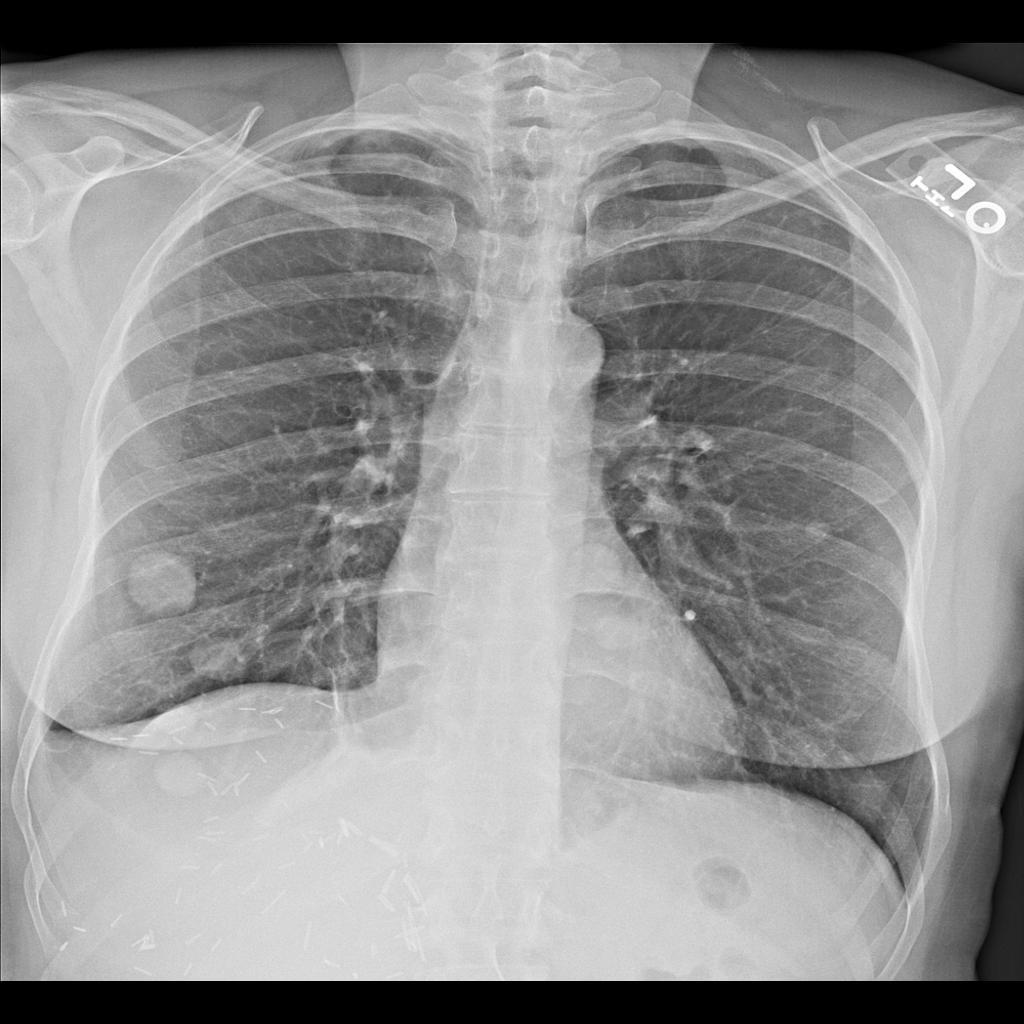Nodule: (127, 549, 199, 616), (190, 635, 254, 687), (807, 522, 834, 546)
